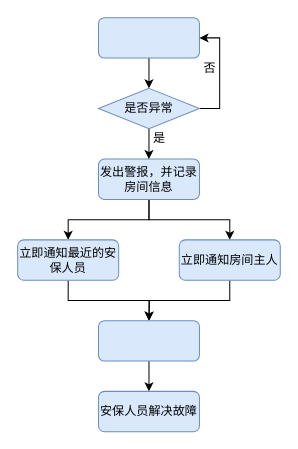
The diagram is 298 pixels wide and 449 high, and some of its shapes have lost their labels. Each missing label, with the centre of its shape:
"安保人员收到通知快速赶到故障房间" goes at pixel 148 340.
"房间温度湿度实时监控" goes at pixel 148 37.
